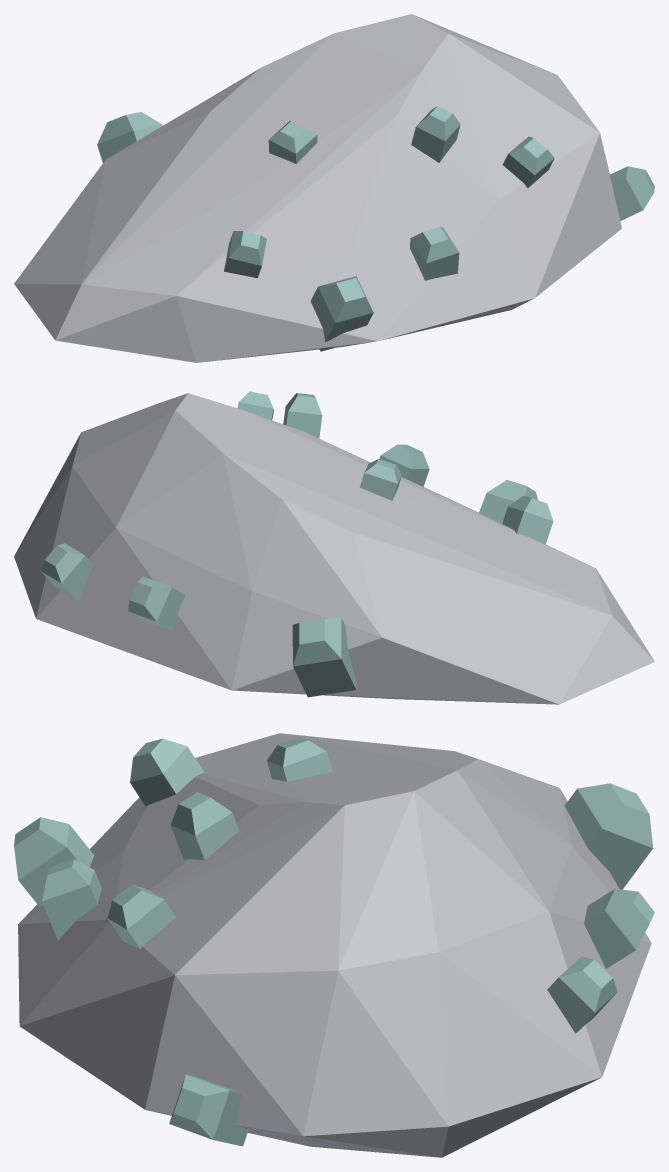
The model's file is SM_MR_Crystal_Large_03.fbx.
3 renders of one model, top to bottom at view 1: azimuth 30°, elevation 25°; view 2: azimuth 150°, elevation 25°; view 3: azimuth 270°, elevation 25°, orthographic. The views are drawn at different scales.
Visible parts, largest first — view 1: SM_MR_Crystal_Large_03; view 2: SM_MR_Crystal_Large_03; view 3: SM_MR_Crystal_Large_03.
Boxes of the visible parts, left/top/right/bottom form: SM_MR_Crystal_Large_03: left=14, top=14, right=654, bottom=362; SM_MR_Crystal_Large_03: left=14, top=391, right=654, bottom=704; SM_MR_Crystal_Large_03: left=14, top=733, right=654, bottom=1157.
Bounding box in the file's own units: 2.65 × 1.82 × 0.9051.
